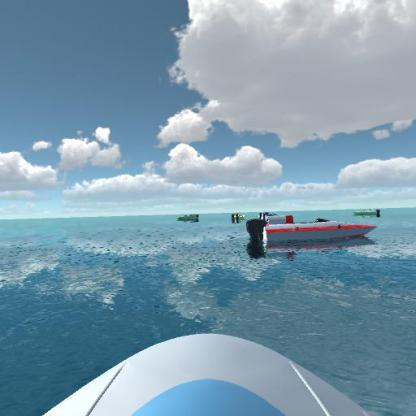usv0: (352, 204, 384, 220), (174, 209, 204, 225)
usv1: (256, 208, 281, 220)
usv2: (228, 208, 248, 222)
usv3: (244, 211, 379, 254)
